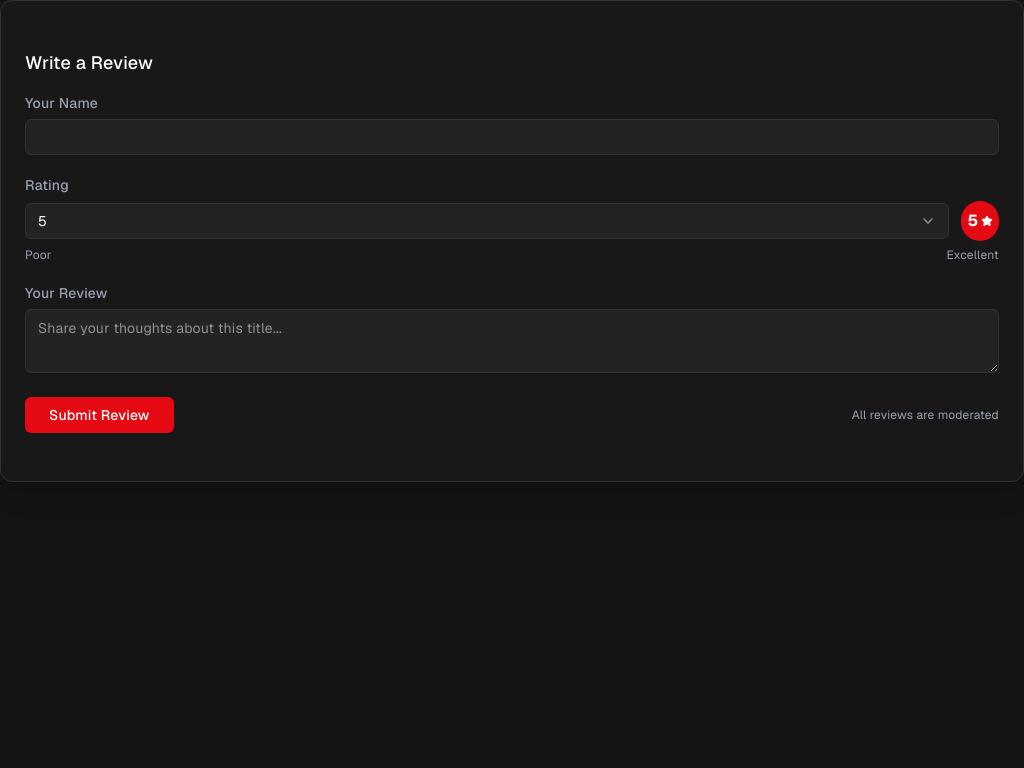
Scenario: ReviewForm › displays success message after form submission
Type "Test User" into the field labelled "Your Name" at (512, 137), box [25,119,999,155]
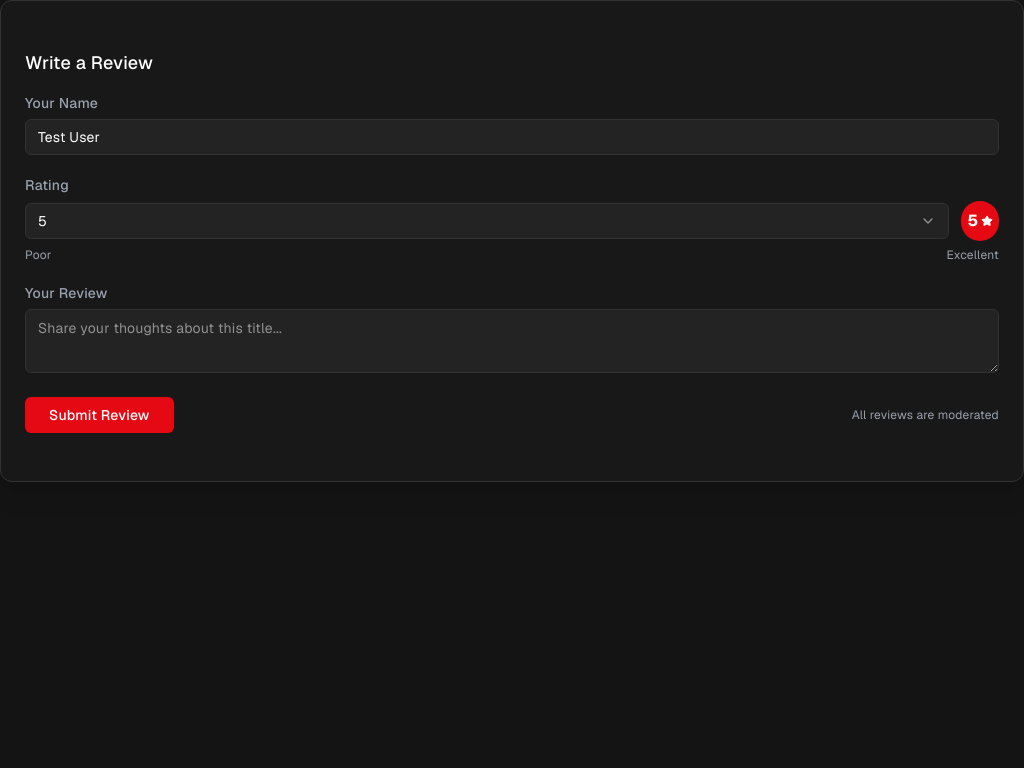
Type "This is a test review" into the text box labelled "Your Review" at (512, 341), box [25,309,999,373]
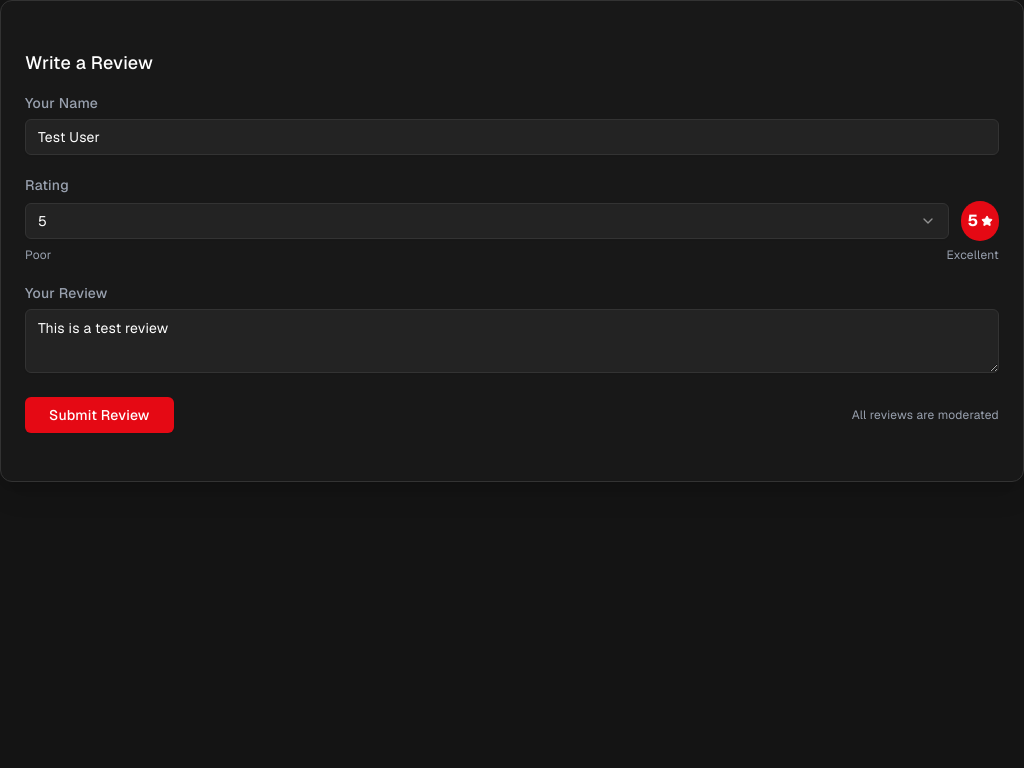
Click the button "Submit Review" at (99, 415), box [25,397,174,433]
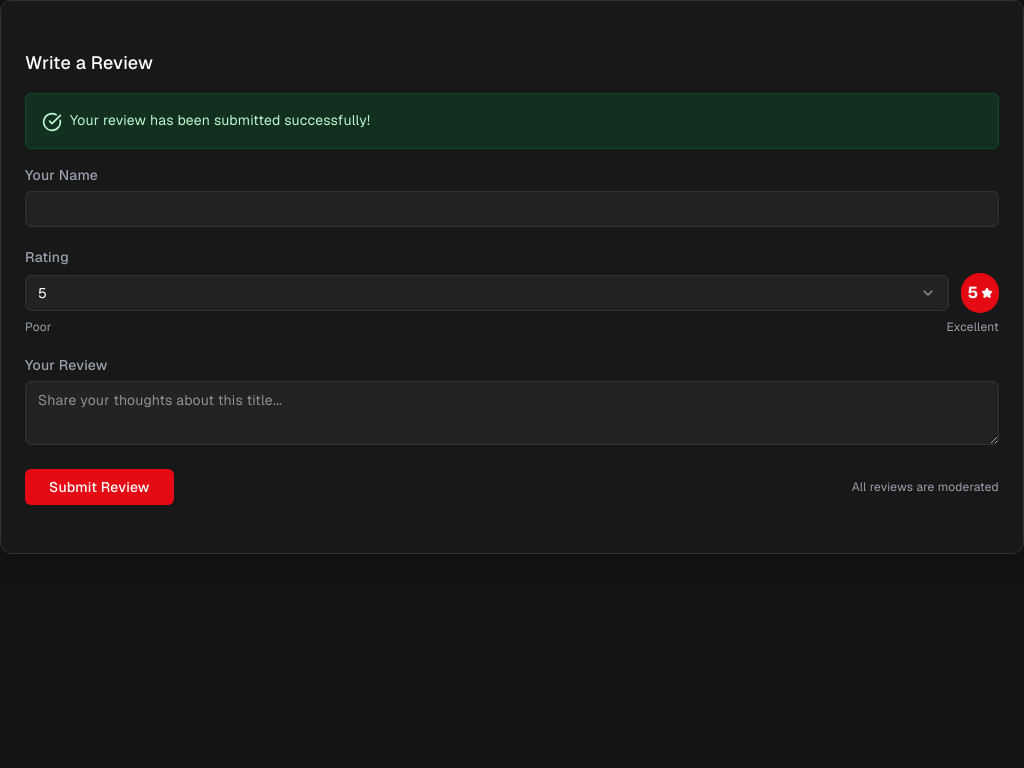
Result: the text "Your review has been submitted successfully!" is shown at [70,110,370,130]
